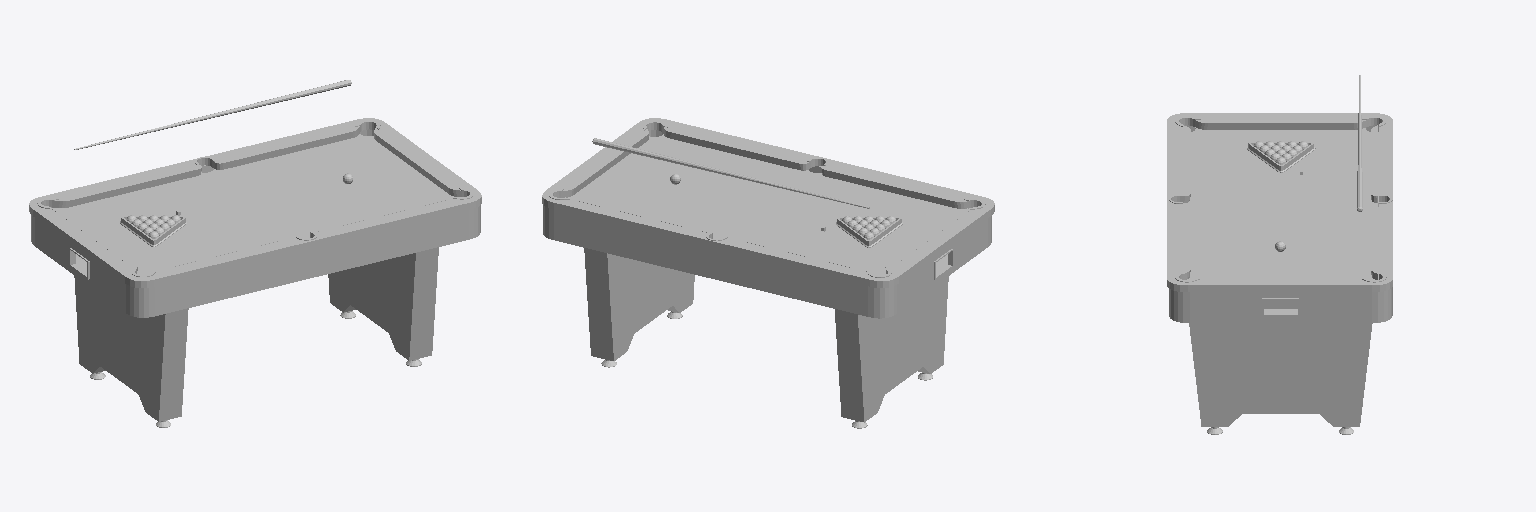
The model's file is POOL TABLE.obj.
3 renders of one model, left to right at view 1: azimuth 30°, elevation 25°; view 2: azimuth 150°, elevation 25°; view 3: azimuth 270°, elevation 25°, orthographic.
Visible parts, largest first — view 1: tabletop_low_Mesh.013, legs_low_Mesh.019, Base_low_Mesh.024, Box14_low_Mesh.022, sides_low_Mesh.017, stick_low_Mesh.016, Balls_low_Mesh.026, rubber_low_Mesh.018, triangle_low_Mesh.015; view 2: tabletop_low_Mesh.013, legs_low_Mesh.019, Base_low_Mesh.024, Box14_low_Mesh.022, sides_low_Mesh.017, stick_low_Mesh.016, Balls_low_Mesh.026, rubber_low_Mesh.018, triangle_low_Mesh.015; view 3: tabletop_low_Mesh.013, legs_low_Mesh.019, Box14_low_Mesh.022, Base_low_Mesh.024, sides_low_Mesh.017, Balls_low_Mesh.026, rubber_low_Mesh.018, triangle_low_Mesh.015, stick_low_Mesh.016.
Boxes of the visible parts, box(x1,y1,x2,y2) form: tabletop_low_Mesh.013: box(58, 134, 453, 274); legs_low_Mesh.019: box(74, 247, 438, 421); Base_low_Mesh.024: box(31, 129, 480, 317); Box14_low_Mesh.022: box(29, 118, 481, 287); sides_low_Mesh.017: box(52, 126, 461, 273); stick_low_Mesh.016: box(74, 80, 351, 149); Balls_low_Mesh.026: box(127, 173, 352, 238); rubber_low_Mesh.018: box(37, 120, 473, 276); triangle_low_Mesh.015: box(120, 216, 186, 246); tabletop_low_Mesh.013: box(568, 134, 968, 275); legs_low_Mesh.019: box(584, 248, 948, 422); Base_low_Mesh.024: box(543, 130, 991, 318); Box14_low_Mesh.022: box(542, 118, 994, 287); sides_low_Mesh.017: box(561, 127, 971, 273); stick_low_Mesh.016: box(592, 138, 869, 208); Balls_low_Mesh.026: box(670, 174, 895, 239); rubber_low_Mesh.018: box(549, 121, 985, 277); triangle_low_Mesh.015: box(836, 217, 902, 247); tabletop_low_Mesh.013: box(1187, 127, 1378, 279); legs_low_Mesh.019: box(1189, 323, 1372, 426); Box14_low_Mesh.022: box(1167, 113, 1392, 291); Base_low_Mesh.024: box(1169, 125, 1392, 322); sides_low_Mesh.017: box(1183, 120, 1377, 279); Balls_low_Mesh.026: box(1254, 141, 1307, 251); rubber_low_Mesh.018: box(1169, 116, 1392, 282); triangle_low_Mesh.015: box(1247, 142, 1315, 172); stick_low_Mesh.016: box(1357, 75, 1362, 211).
Bounding box in the file's own units: 2.17 × 1.34 × 1.2.